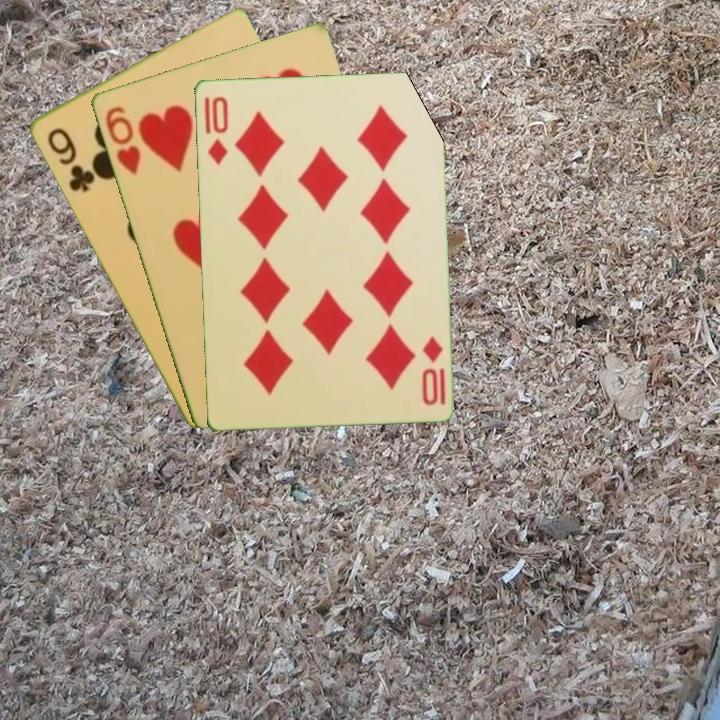10d: (200, 93, 231, 167), (418, 333, 448, 408)
6h: (101, 102, 143, 178)
9c: (43, 124, 97, 196)
